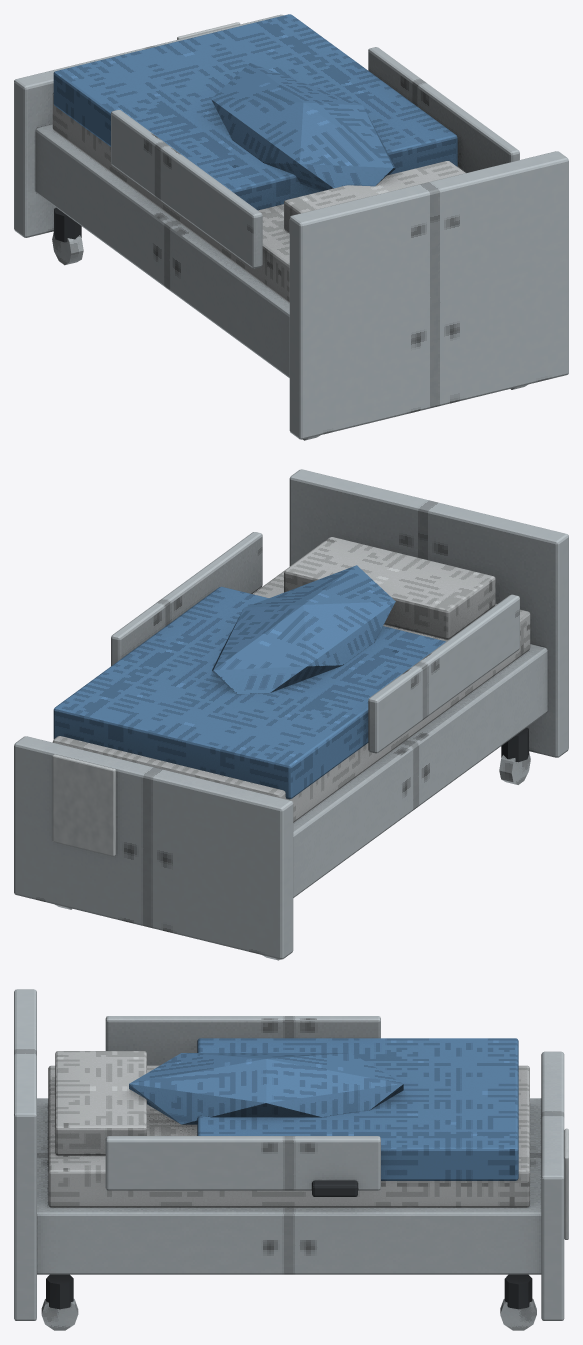
Rendered from base_med_bed_used.glb.
3 renders of one model, top to bottom at view 1: azimuth 30°, elevation 25°; view 2: azimuth 150°, elevation 25°; view 3: azimuth 270°, elevation 25°, orthographic. The views are drawn at different scales.
Parts seen in each view (by area): view 1: base_med_bed_used.002; view 2: base_med_bed_used.002; view 3: base_med_bed_used.002.
Boxes of the visible parts, bbox=[...] form: base_med_bed_used.002: bbox=[14, 14, 568, 440]; base_med_bed_used.002: bbox=[14, 469, 568, 960]; base_med_bed_used.002: bbox=[14, 989, 568, 1330].
Size of the model in its own units: 1.35 by 1.1 by 2.42.
Materials: 5 (5 with a texture image).
